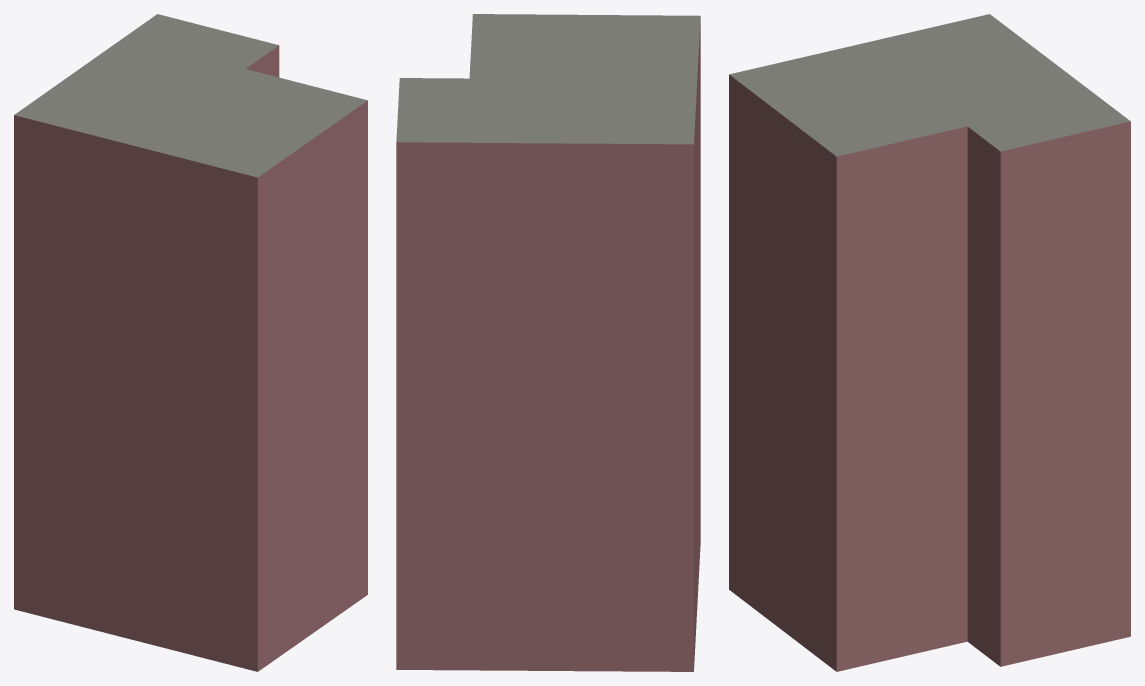
The model's file is nyc-1034198-0.glb.
3 renders of one model, left to right at view 1: azimuth 30°, elevation 25°; view 2: azimuth 150°, elevation 25°; view 3: azimuth 270°, elevation 25°, orthographic. The views are drawn at different scales.
Visible parts, largest first — view 1: nyc-1034198-0; view 2: nyc-1034198-0; view 3: nyc-1034198-0.
Boxes of the visible parts, x1,y1,x2,y2 form: nyc-1034198-0: [14, 14, 367, 671]; nyc-1034198-0: [396, 14, 700, 671]; nyc-1034198-0: [729, 14, 1130, 671].
Bounding box in the file's own units: 68.43 × 115 × 81.42.
